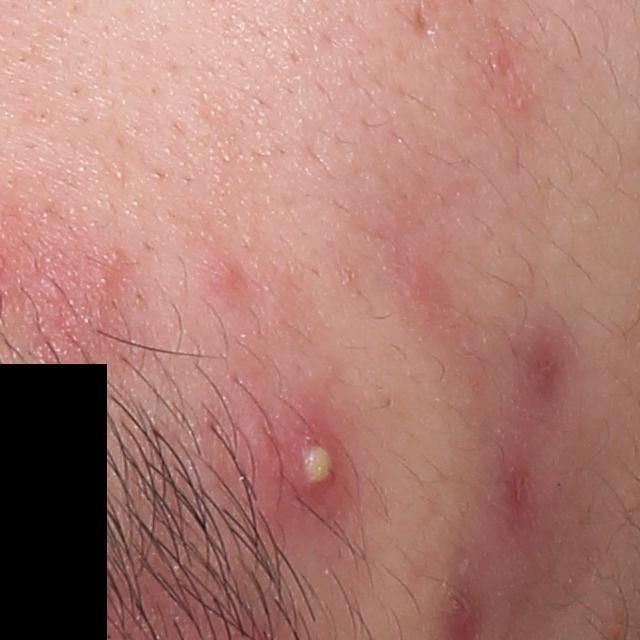pustule: (275, 409, 354, 528)
